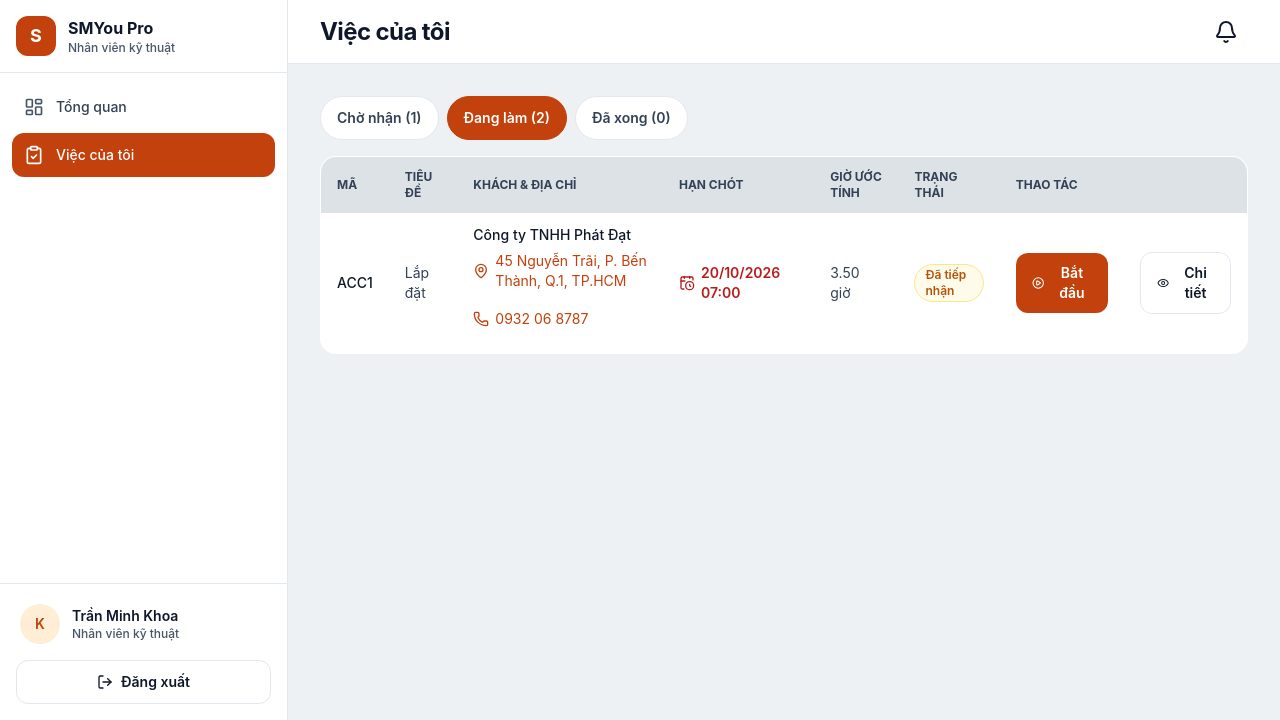
Test: /my-tasks đọc `focus` từ URL lúc tải (M10-07c) › (M10-07c, URL gõ tay — thẻ Tổng quan nay mở popup, M18-01b) ?focus=not_started: chuyển tab thủ công rồi quay lại Đang làm thì hết lọc focus (không còn ẩn IN_PRO
The width and height of the screenshot is (1280, 720).
Expected: the text "ACC1" is shown, x1=320 y1=213 x2=389 y2=354
Expected: the text "PROG1" is not shown
Click the tab "Chờ nhận (1)" at (379, 118), box x1=320 y1=96 x2=439 y2=140
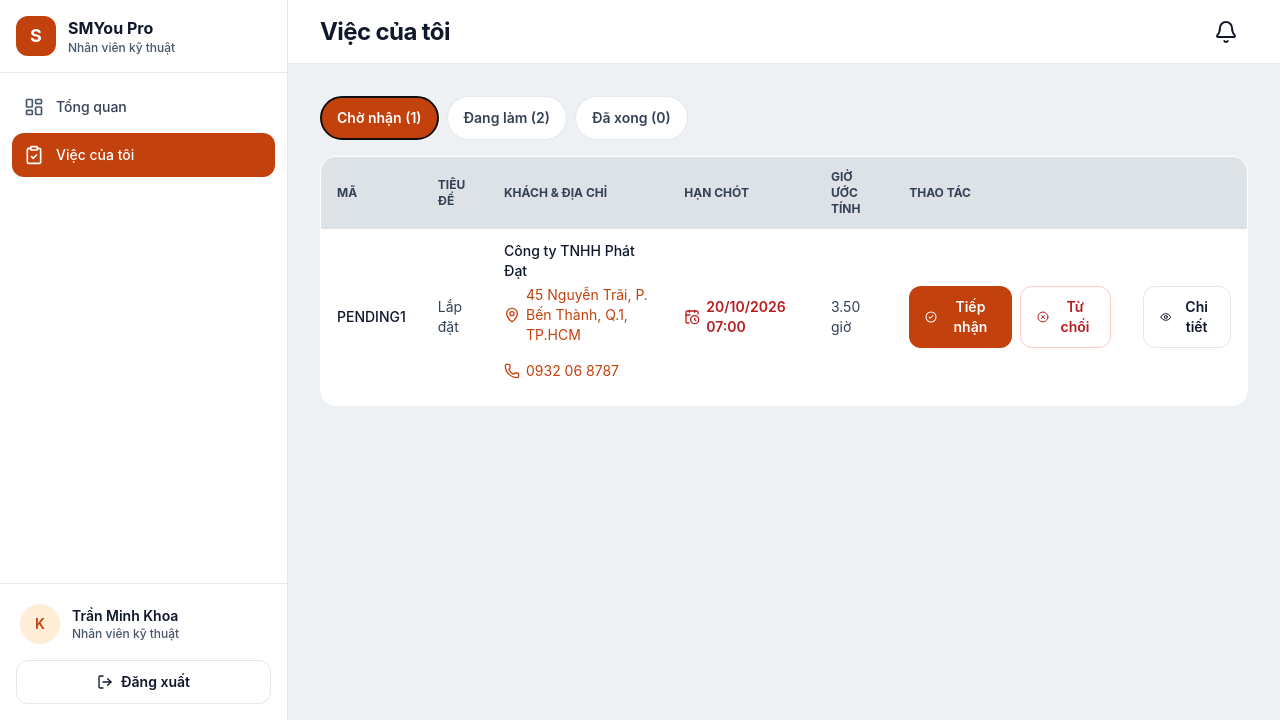
Result: the text "PENDING1" is shown at x1=320 y1=229 x2=422 y2=406
Click the tab "Đang làm (2)" at (507, 118), box x1=447 y1=96 x2=567 y2=140
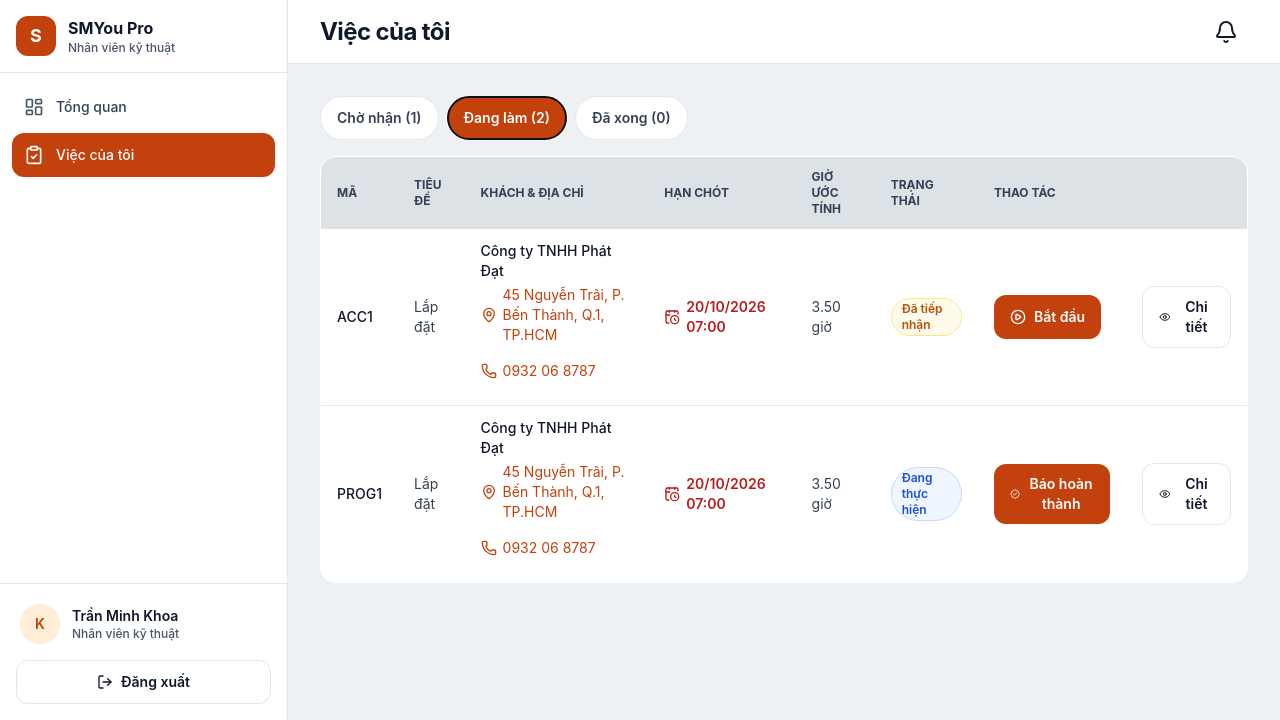
Result: the text "ACC1" is shown at x1=320 y1=229 x2=398 y2=406
Result: the text "PROG1" is shown at x1=320 y1=406 x2=398 y2=582
